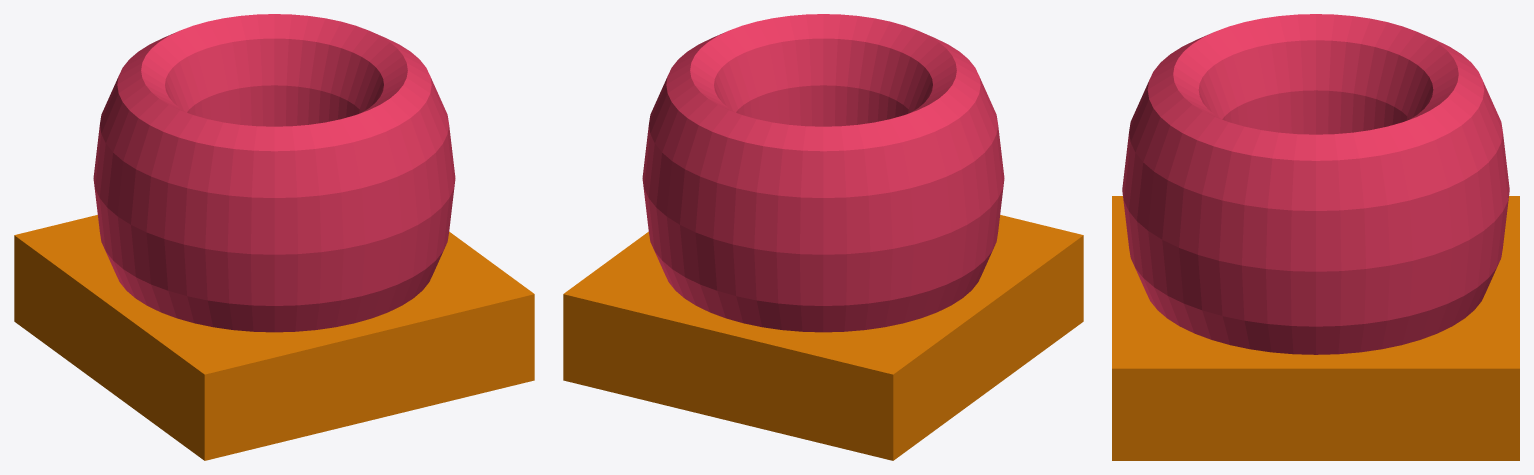
File: GoalBlock.fbx
3 renders of one model, left to right at view 1: azimuth 30°, elevation 25°; view 2: azimuth 150°, elevation 25°; view 3: azimuth 270°, elevation 25°, orthographic. The views are drawn at different scales.
Visible parts, largest first — view 1: GoalBlock; view 2: GoalBlock; view 3: GoalBlock.
Boxes of the visible parts, left/top/right/bottom form: GoalBlock: left=14, top=14, right=534, bottom=460; GoalBlock: left=563, top=14, right=1083, bottom=460; GoalBlock: left=1112, top=14, right=1519, bottom=460.
Size of the model in its own units: 1 by 0.8125 by 1.
